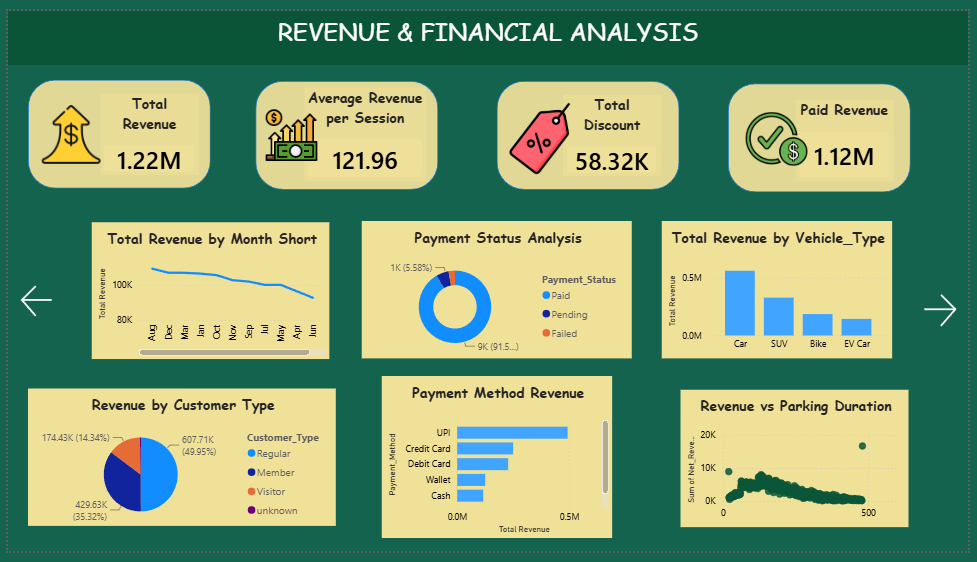

This screenshot's page, from the dashboard's own definition file:
{"tool":"powerbi","page":{"name":"Revenue","canvas":[1280,720],"ordinal":2},"visuals":[{"type":"textbox","box":[0,0,1280,71.7],"z":0},{"type":"shape","box":[26.7,91.9,243.5,144.9],"z":1000},{"type":"cardVisual","title":"Total Revenue","fields":{"Data":["Smartparking analysis.Total Revenue"]},"box":[123,109.7,130.8,108.8],"z":2000},{"type":"image","box":[44.5,35.6,78.5,259.3],"z":3000},{"type":"shape","box":[330,92.9,243.5,144.9],"z":4000},{"type":"cardVisual","title":"Average Revenue per Session","fields":{"Data":["Smartparking analysis.Average Revenue per Session"]},"box":[395.7,101.4,162.9,125.7],"z":5000},{"type":"image","box":[340,130,75.7,71.4],"z":6000},{"type":"shape","box":[651.7,93.3,243.5,144.9],"z":7000},{"type":"shape","box":[960,96.7,243.5,144.9],"z":8000},{"type":"cardVisual","title":"Total Discount","fields":{"Data":["Smartparking analysis.Total Discount"]},"box":[740,111.7,130.8,108.8],"z":9000},{"type":"cardVisual","title":"Paid Revenue","fields":{"Data":["Smartparking analysis.Paid Revenue"]},"box":[1050,118.3,130.8,108.8],"z":10000},{"type":"image","box":[611.7,121.7,194.3,97.1],"z":11000},{"type":"image","box":[968.3,135,112.9,71.4],"z":12000},{"type":"lineChart","fields":{"Category":["Dim_Date.Month Short"],"Y":["Smartparking analysis.Total Revenue"]},"box":[111.7,281.7,317.1,182.3],"z":13000},{"type":"columnChart","fields":{"Y":["Smartparking analysis.Total Revenue"],"Category":["Smartparking analysis.Vehicle_Type"]},"box":[871.7,280,307.1,182.9],"z":14000},{"type":"pieChart","title":"Revenue by Customer Type","fields":{"Category":["Smartparking analysis.Customer_Type"],"Y":["Smartparking analysis.Total Revenue"]},"box":[26.7,503.3,410,183.3],"z":15000},{"type":"donutChart","title":"Payment Status Analysis","fields":{"Category":["Smartparking analysis.Payment_Status"],"Y":["Smartparking analysis.Total Parking Sessions"]},"box":[471.7,280,360,182.9],"z":16000},{"type":"scatterChart","title":"Revenue vs Parking Duration","fields":{"Y":["Sum(Smartparking analysis.Net_Revenue)"],"X":["Smartparking analysis.Parking_Duration_Min"]},"box":[896.7,505,304.3,182.9],"z":17000},{"type":"barChart","title":"Payment Method Revenue","fields":{"Y":["Smartparking analysis.Total Revenue"],"Category":["Smartparking analysis.Payment_Method"]},"box":[498.3,486.7,307.1,215.7],"z":18000},{"type":"actionButton","box":[1215,371.7,65,55],"z":18001},{"type":"actionButton","box":[11.7,360,111.7,53.3],"z":18002}]}

Visuals, with their boxes in screenshot pixels (x1, y1, x2, y2), scaled from the page's 1280x720 canvas onto the 977x562 screenshot:
textbox: rect(0, 0, 976, 56)
shape: rect(20, 72, 206, 185)
"Total Revenue" cardVisual: rect(94, 86, 194, 171)
image: rect(34, 28, 94, 230)
shape: rect(252, 73, 438, 186)
"Average Revenue per Session" cardVisual: rect(302, 79, 426, 177)
image: rect(260, 101, 317, 157)
shape: rect(497, 73, 683, 186)
shape: rect(733, 75, 919, 189)
"Total Discount" cardVisual: rect(565, 87, 665, 172)
"Paid Revenue" cardVisual: rect(801, 92, 901, 177)
image: rect(467, 95, 615, 171)
image: rect(739, 105, 825, 161)
lineChart - Dim_Date.Month Short x Smartparking analysis.Total Revenue: rect(85, 220, 327, 362)
columnChart - Smartparking analysis.Total Revenue x Smartparking analysis.Vehicle_Type: rect(665, 219, 900, 361)
"Revenue by Customer Type" pieChart: rect(20, 393, 333, 536)
"Payment Status Analysis" donutChart: rect(360, 219, 635, 361)
"Revenue vs Parking Duration" scatterChart: rect(684, 394, 917, 537)
"Payment Method Revenue" barChart: rect(380, 380, 615, 548)
actionButton: rect(927, 290, 976, 333)
actionButton: rect(9, 281, 94, 323)
